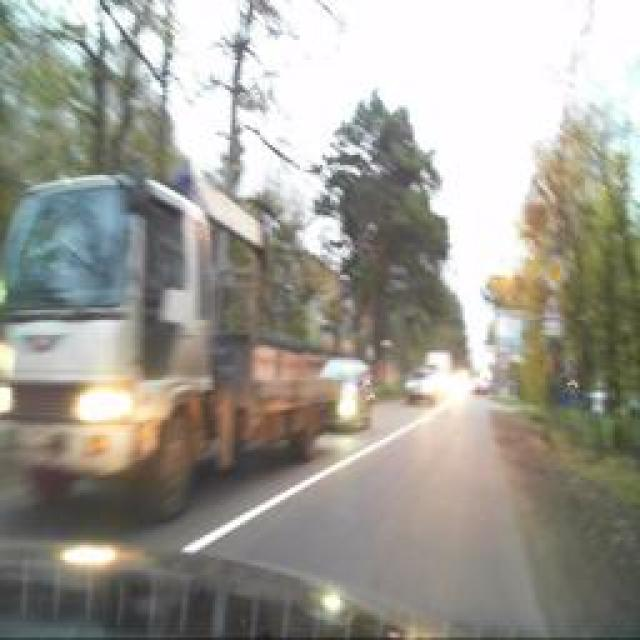sign: (544, 255, 564, 293)
